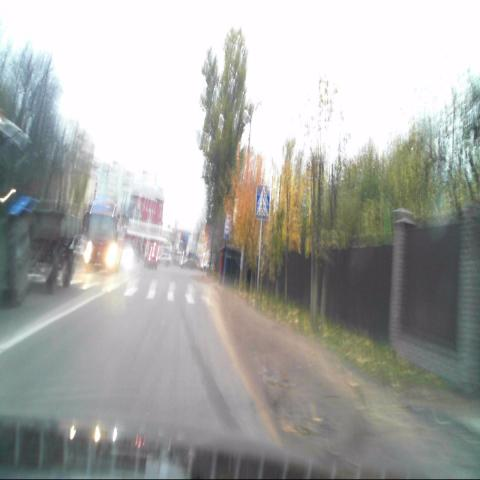5_16: (255, 183, 271, 220)
